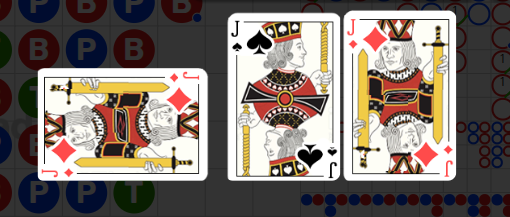7D: (345, 16, 358, 50)
JS: (295, 132, 339, 179), (228, 12, 272, 58)
